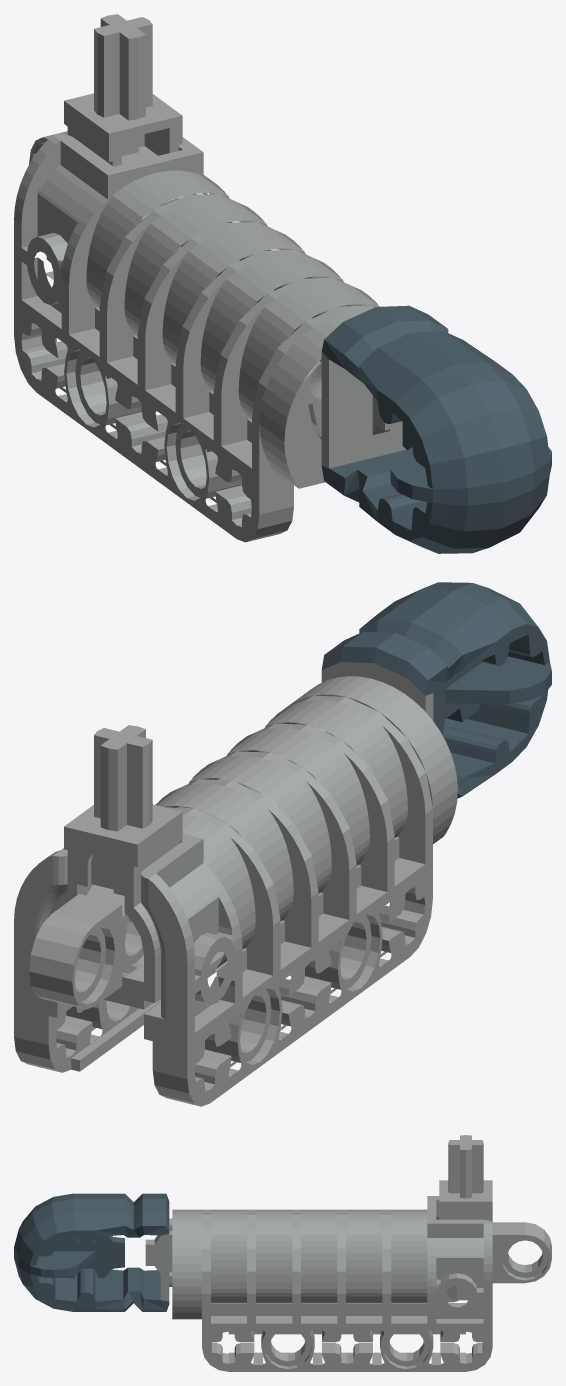
3 views of the same model, one above another, from view 1: azimuth 30°, elevation 25°; view 2: azimuth 150°, elevation 25°; view 3: azimuth 270°, elevation 25° (orthographic). The views are drawn at different scales.
Parts seen in each view (by area): view 1: world; view 2: world; view 3: world.
Part boxes in pixels (x1=…): world: x1=14, y1=14, x2=551, y2=553; world: x1=14, y1=582, x2=551, y2=1106; world: x1=14, y1=1135, x2=551, y2=1371.
Bounding box in the file's own units: 0.016 × 0.0304 × 0.0726.
